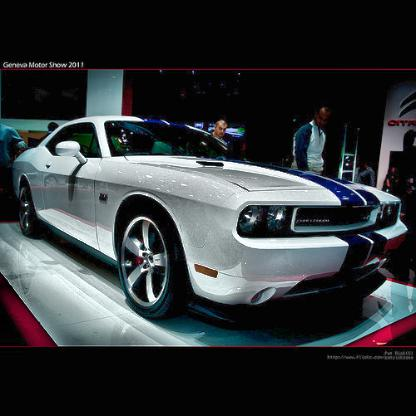Dodge Challenger SRT8 2011: (12, 116, 410, 333)
